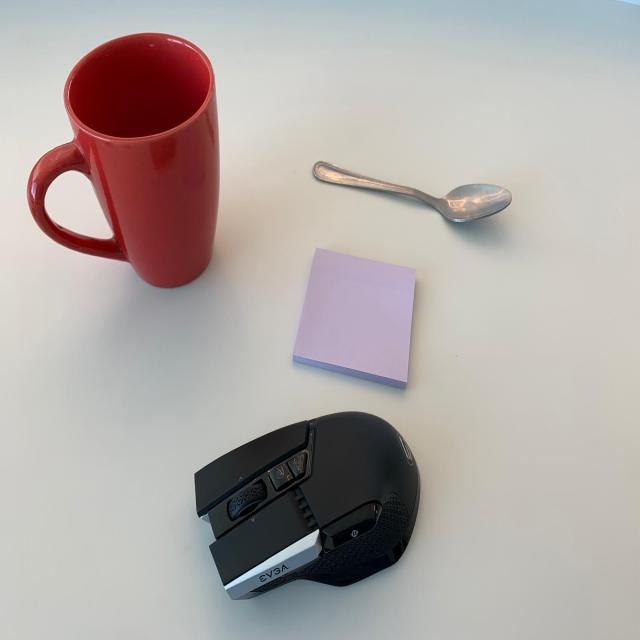Cup: (17, 20, 230, 311)
Mouse: (176, 404, 431, 614)
Spoon: (293, 144, 516, 237)
